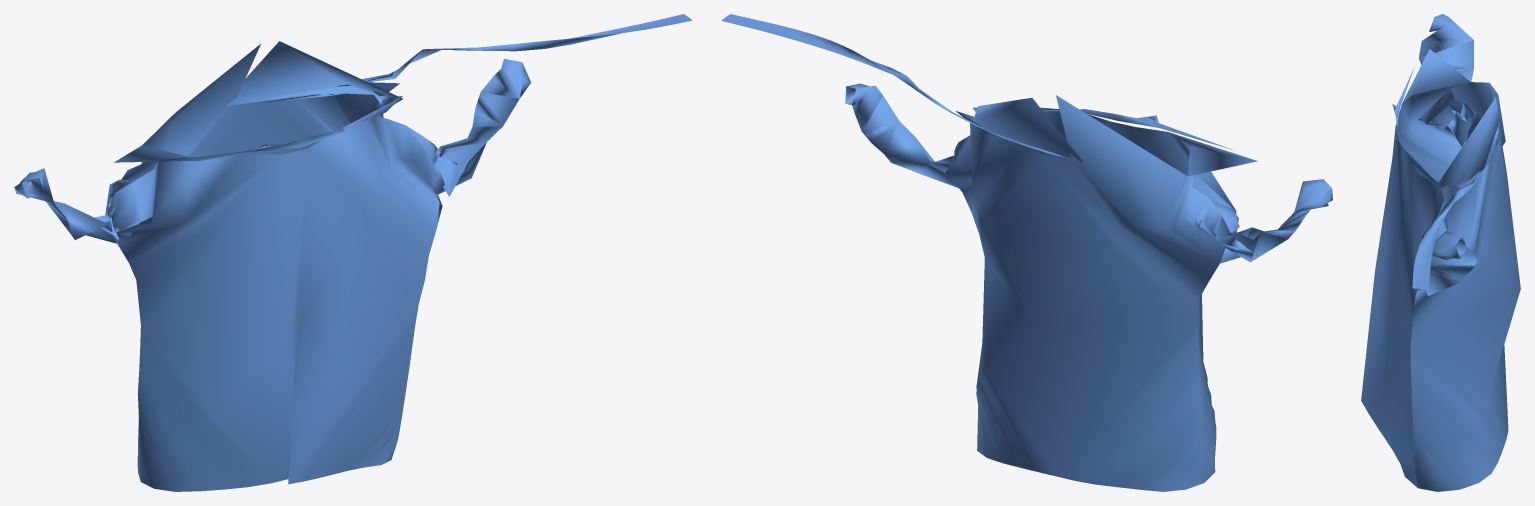
The model's file is settled_mesh.glb.
3 views of the same model, side by side, from view 1: azimuth 30°, elevation 25°; view 2: azimuth 150°, elevation 25°; view 3: azimuth 270°, elevation 25° (orthographic). The views are drawn at different scales.
Visible parts, largest first — view 1: panel.front, panel.back, panel.neck_band, panel.sleeve.right, panel.sleeve.left; view 2: panel.back, panel.front, panel.neck_band, panel.sleeve.right, panel.sleeve.left; view 3: panel.back, panel.front, panel.neck_band, panel.sleeve.left, panel.sleeve.right.
Boxes of the visible parts, left/top/right/bottom form: panel.front: left=108, top=96, right=440, bottom=491; panel.back: left=105, top=43, right=442, bottom=480; panel.neck_band: left=157, top=14, right=692, bottom=162; panel.sleeve.right: left=430, top=59, right=531, bottom=196; panel.sleeve.left: left=14, top=168, right=118, bottom=243; panel.back: left=943, top=95, right=1225, bottom=491; panel.front: left=953, top=107, right=1257, bottom=481; panel.neck_band: left=721, top=14, right=1233, bottom=162; panel.sleeve.right: left=845, top=83, right=961, bottom=188; panel.sleeve.left: left=1218, top=179, right=1332, bottom=263; panel.back: left=1410, top=82, right=1520, bottom=491; panel.front: left=1361, top=49, right=1470, bottom=487; panel.neck_band: left=1392, top=67, right=1499, bottom=288; panel.sleeve.left: left=1418, top=14, right=1473, bottom=146; panel.sleeve.right: left=1418, top=231, right=1477, bottom=295.
Bounding box in the file's own units: 1.39 × 0.8316 × 0.3287.
